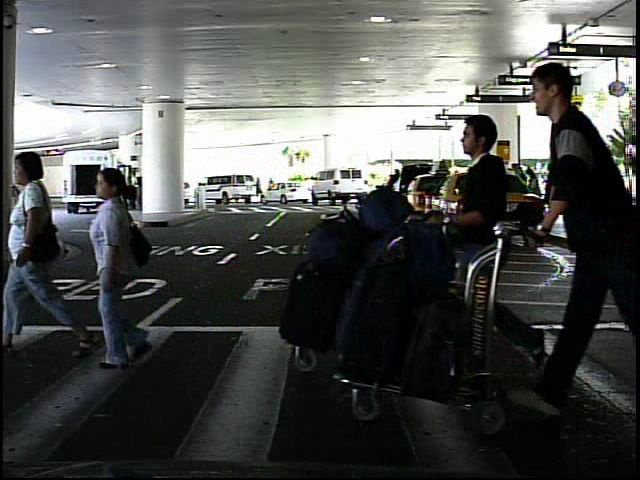person: (529, 50, 640, 426), (424, 105, 536, 394), (8, 137, 99, 358), (71, 158, 157, 382), (107, 171, 125, 221), (583, 171, 602, 217)
